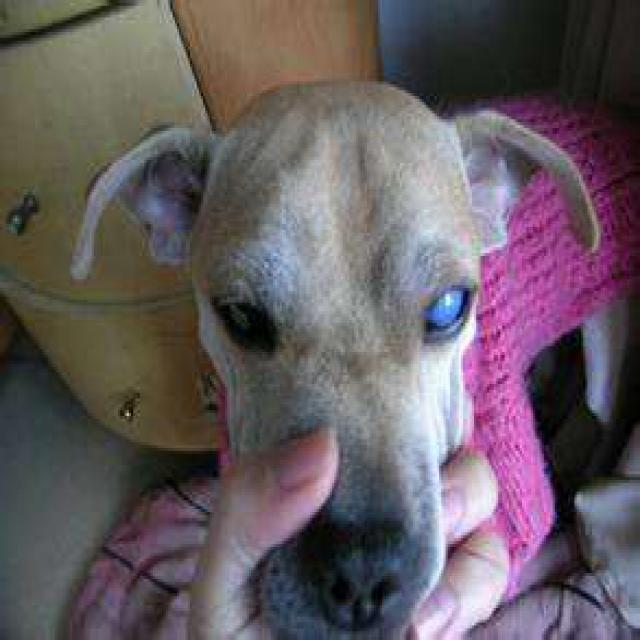eye: (212, 291, 281, 356), (418, 275, 474, 338)
